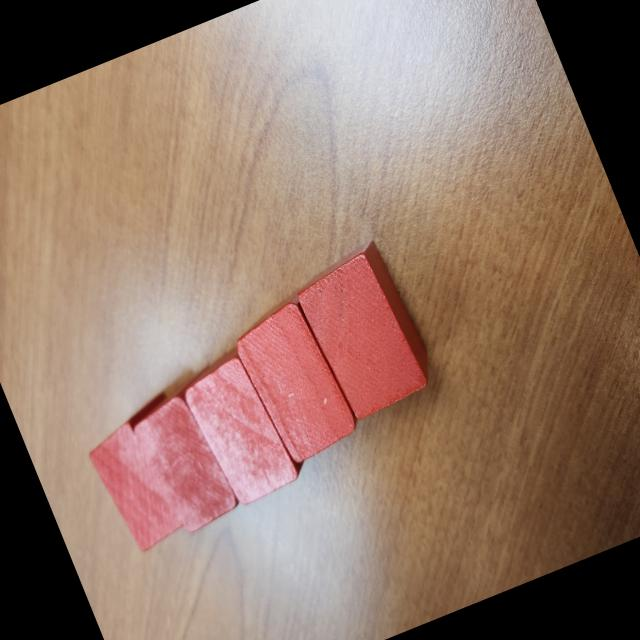red: (286, 235, 443, 425), (223, 286, 367, 471), (122, 366, 266, 540), (172, 338, 308, 514), (76, 390, 218, 557)
